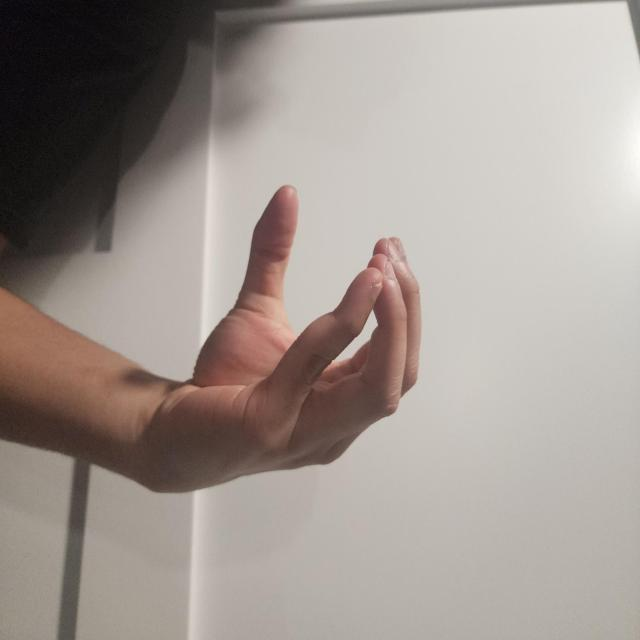C: (297, 286, 538, 640)
